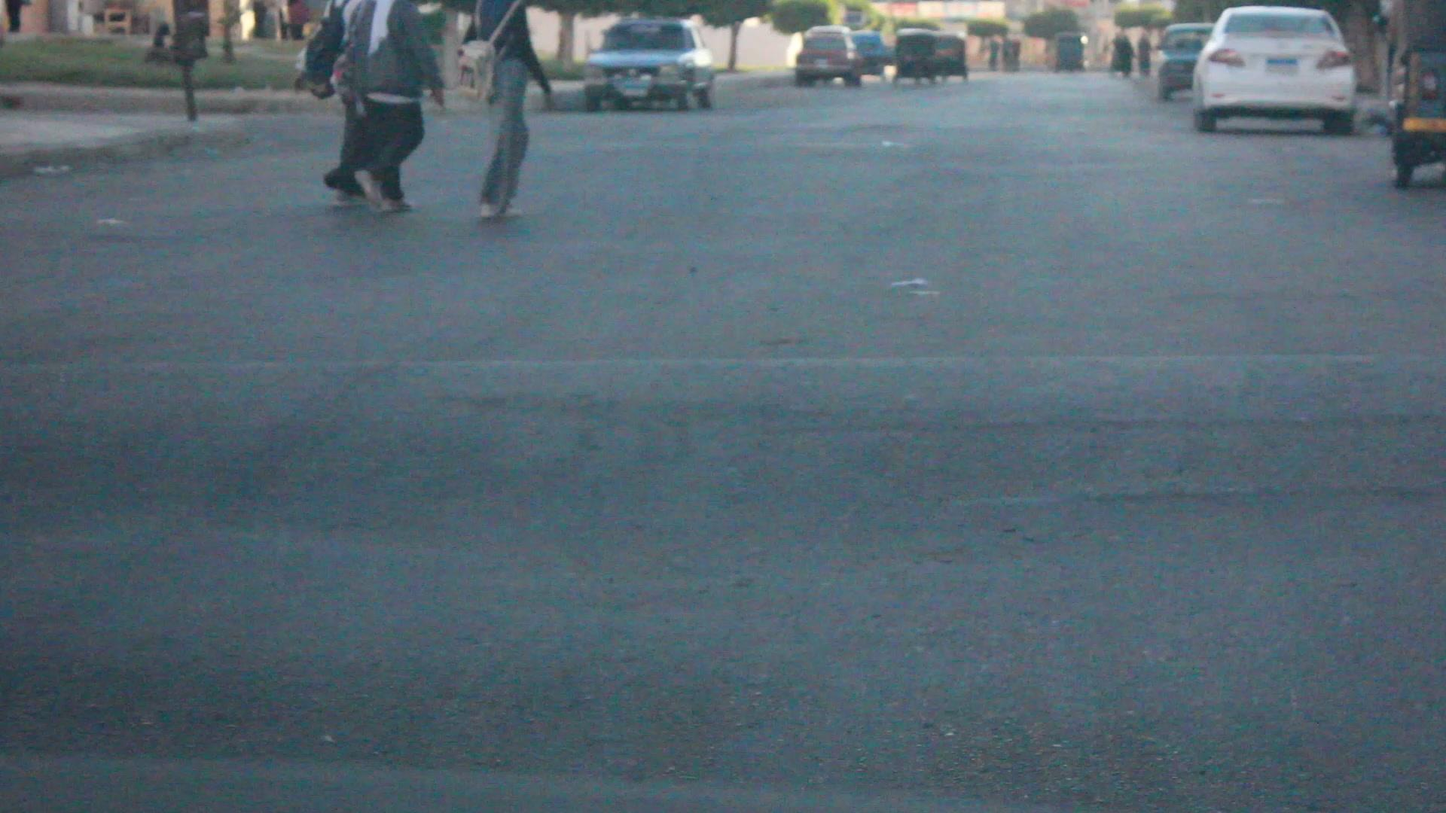Bump: (0, 561, 1446, 805), (0, 356, 1446, 565)
